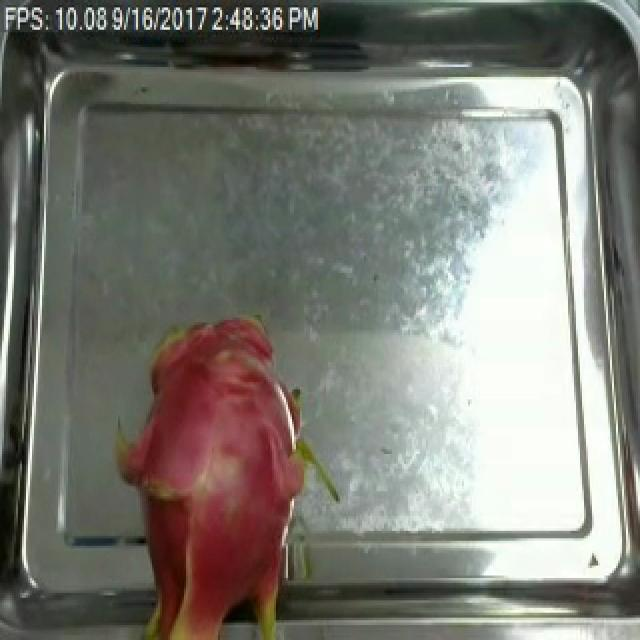fruit: (108, 302, 330, 640)
